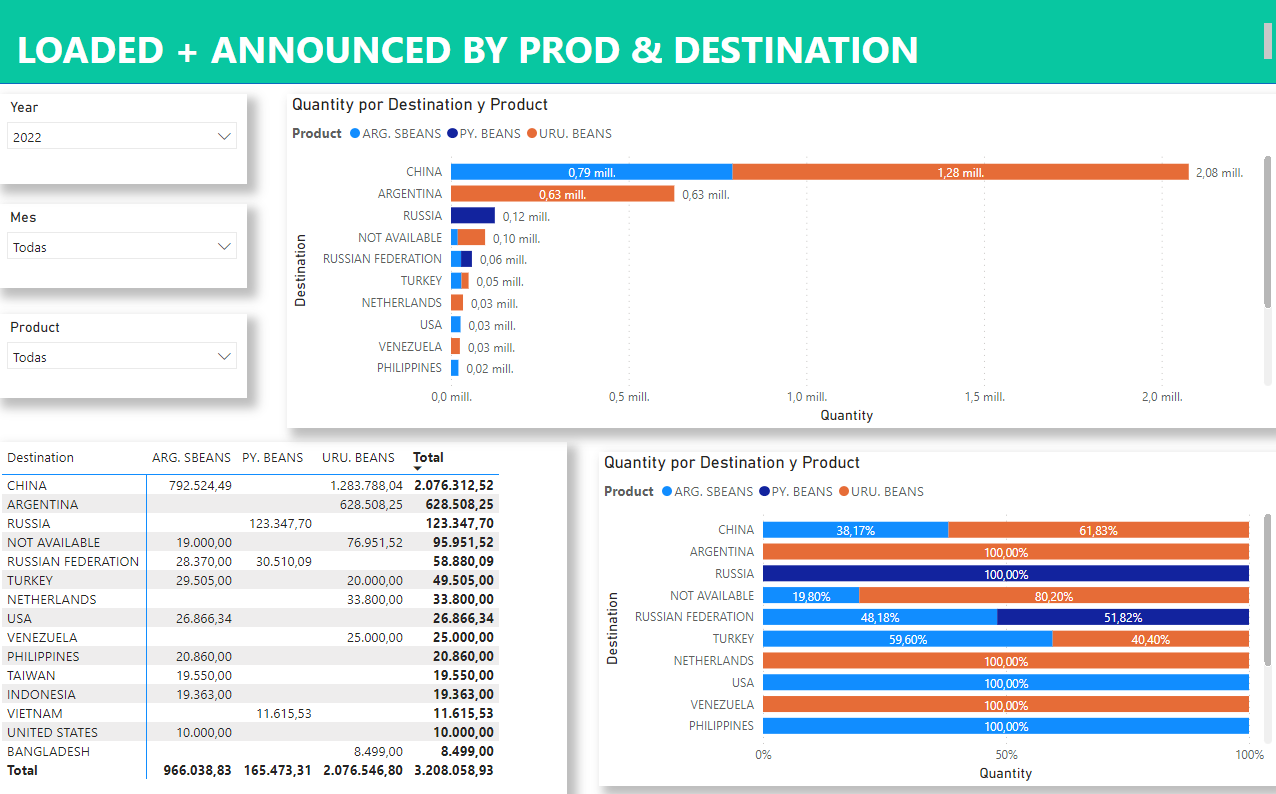

What the dashboard file says about the page in this screenshot:
{"tool":"powerbi","page":{"name":"L+A by prod and destination","canvas":[1280,800],"ordinal":2},"visuals":[{"type":"shape","box":[0,0,1280,86],"z":0},{"type":"textbox","box":[0,20,1280,52],"z":1000},{"type":"pivotTable","fields":{"Columns":["LineupExpo.Product"],"Rows":["LineupExpo.Destination"],"Values":["Sum(LineupExpo.Quantity)"]},"box":[0,444,570,356],"z":2000},{"type":"barChart","fields":{"Series":["LineupExpo.Product"],"Y":["Sum(LineupExpo.Quantity)"],"Category":["LineupExpo.Destination"]},"box":[290,96,990,334],"z":3000},{"type":"slicer","fields":{"Values":["LineupExpo.Month.Variación.Jerarquía de fechas.Mes"]},"box":[0,206,250,84],"z":4000},{"type":"slicer","fields":{"Values":["LineupExpo.Year"]},"box":[0,96,250,90],"z":5000},{"type":"hundredPercentStackedBarChart","fields":{"Series":["LineupExpo.Product"],"Y":["Sum(LineupExpo.Quantity)"],"Category":["LineupExpo.Destination"]},"box":[602,454,678,334],"z":6000},{"type":"slicer","fields":{"Values":["LineupExpo.Product"]},"box":[0,316,250,84],"z":7000}]}

Visuals, with their boxes in screenshot pixels (x1, y1, x2, y2), scaled from the page's 1280x800 canvas onto the 1276x794 screenshot:
shape: x1=0 y1=0 x2=1275 y2=85
textbox: x1=0 y1=20 x2=1275 y2=71
pivotTable - LineupExpo.Product x LineupExpo.Destination: x1=0 y1=441 x2=568 y2=793
barChart - LineupExpo.Product x Sum(LineupExpo.Quantity): x1=289 y1=95 x2=1275 y2=427
slicer - LineupExpo.Month.Variación.Jerarquía de fechas.Mes: x1=0 y1=204 x2=249 y2=288
slicer - LineupExpo.Year: x1=0 y1=95 x2=249 y2=185
hundredPercentStackedBarChart - LineupExpo.Product x Sum(LineupExpo.Quantity): x1=600 y1=451 x2=1275 y2=782
slicer - LineupExpo.Product: x1=0 y1=314 x2=249 y2=397
